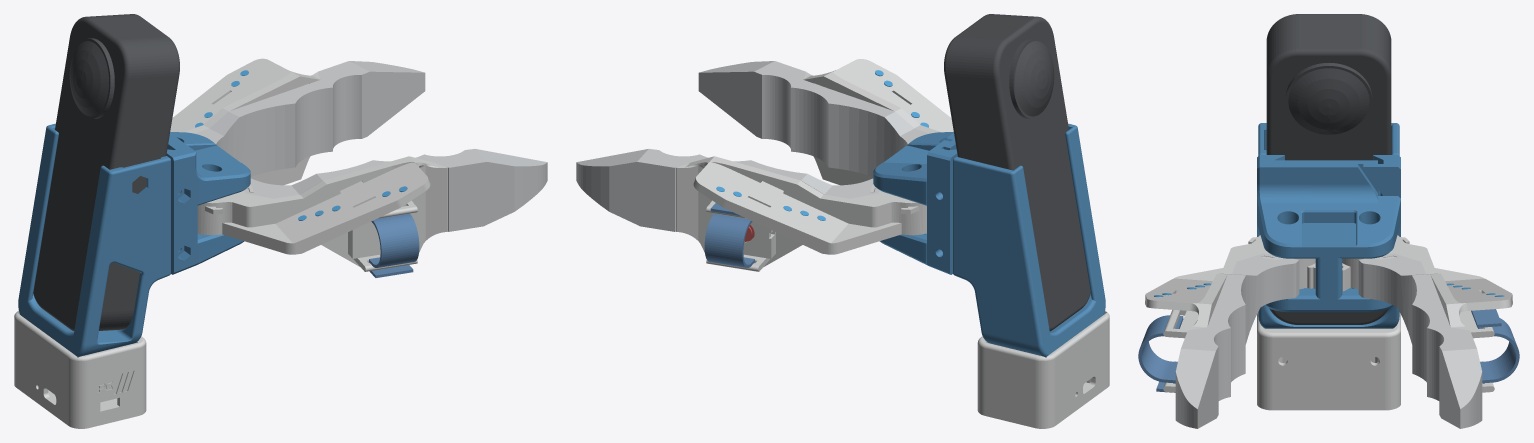
Rendered from chop-umi_left.glb.
3 renders of one model, left to right at view 1: azimuth 30°, elevation 25°; view 2: azimuth 150°, elevation 25°; view 3: azimuth 270°, elevation 25°, orthographic. The views are drawn at different scales.
Parts seen in each view (by area): view 1: insta360_x5_envelope, x5_lite_frame, jaw_right_dc, tip_tpu_left, pg_pod, tip_tpu_right, chopstick_base_dc, jaw_left_dc_button, sleeve_strap_right, pg_pod_lid; view 2: insta360_x5_envelope, x5_lite_frame, jaw_left_dc_button, tip_tpu_right, pg_pod, tip_tpu_left, jaw_right_dc, chopstick_base_dc, chopstick_clip_dc, sleeve_strap_left, pg_pod_lid; view 3: insta360_x5_envelope, chopstick_base_dc, pg_pod, tip_tpu_right, tip_tpu_left, jaw_right_dc, jaw_left_dc_button, x5_lite_frame, sleeve_strap_left, sleeve_strap_right, chopstick_clip_dc, pg_pod_lid.
Part boxes in pixels (x1=…): insta360_x5_envelope: x1=33, y1=14, x2=179, y2=331; x5_lite_frame: x1=18, y1=123, x2=170, y2=357; jaw_right_dc: x1=197, y1=156, x2=447, y2=271; tip_tpu_left: x1=195, y1=61, x2=425, y2=176; pg_pod: x1=14, y1=310, x2=146, y2=424; tip_tpu_right: x1=244, y1=149, x2=547, y2=231; chopstick_base_dc: x1=166, y1=132, x2=250, y2=274; jaw_left_dc_button: x1=170, y1=58, x2=320, y2=185; sleeve_strap_right: x1=369, y1=213, x2=419, y2=277; pg_pod_lid: x1=14, y1=381, x2=146, y2=428; insta360_x5_envelope: x1=944, y1=14, x2=1090, y2=331; x5_lite_frame: x1=953, y1=123, x2=1105, y2=357; jaw_left_dc_button: x1=676, y1=156, x2=926, y2=271; tip_tpu_right: x1=698, y1=61, x2=928, y2=176; pg_pod: x1=977, y1=310, x2=1109, y2=424; tip_tpu_left: x1=576, y1=149, x2=879, y2=231; jaw_right_dc: x1=803, y1=59, x2=953, y2=185; chopstick_base_dc: x1=873, y1=132, x2=956, y2=265; chopstick_clip_dc: x1=927, y1=140, x2=957, y2=274; sleeve_strap_left: x1=704, y1=203, x2=754, y2=267; pg_pod_lid: x1=977, y1=381, x2=1109, y2=428; insta360_x5_envelope: x1=1266, y1=14, x2=1391, y2=324; chopstick_base_dc: x1=1257, y1=155, x2=1400, y2=312; pg_pod: x1=1257, y1=312, x2=1400, y2=405; tip_tpu_right: x1=1175, y1=253, x2=1299, y2=428; tip_tpu_left: x1=1358, y1=253, x2=1482, y2=428; jaw_right_dc: x1=1145, y1=235, x2=1315, y2=392; jaw_left_dc_button: x1=1342, y1=235, x2=1512, y2=392; x5_lite_frame: x1=1258, y1=123, x2=1399, y2=328; sleeve_strap_left: x1=1471, y1=309, x2=1519, y2=383; sleeve_strap_right: x1=1138, y1=315, x2=1183, y2=392; chopstick_clip_dc: x1=1363, y1=155, x2=1400, y2=236; pg_pod_lid: x1=1257, y1=400, x2=1400, y2=410.
Bounding box in the file's own units: 0.2032 × 0.1583 × 0.1405.
